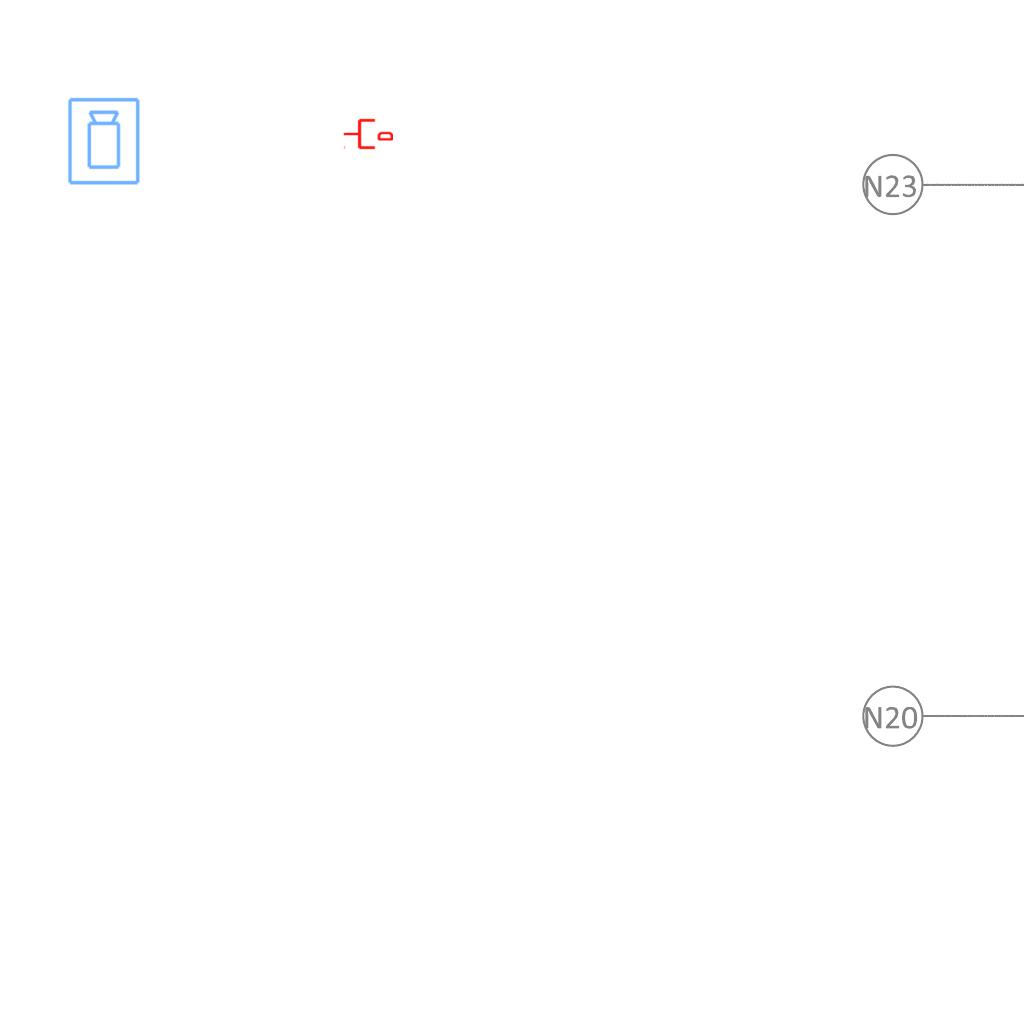Datenanschluss_einfach: (343, 117, 393, 151)
KFO_Kamera_mit_Festobjektiv: (66, 96, 143, 187)
